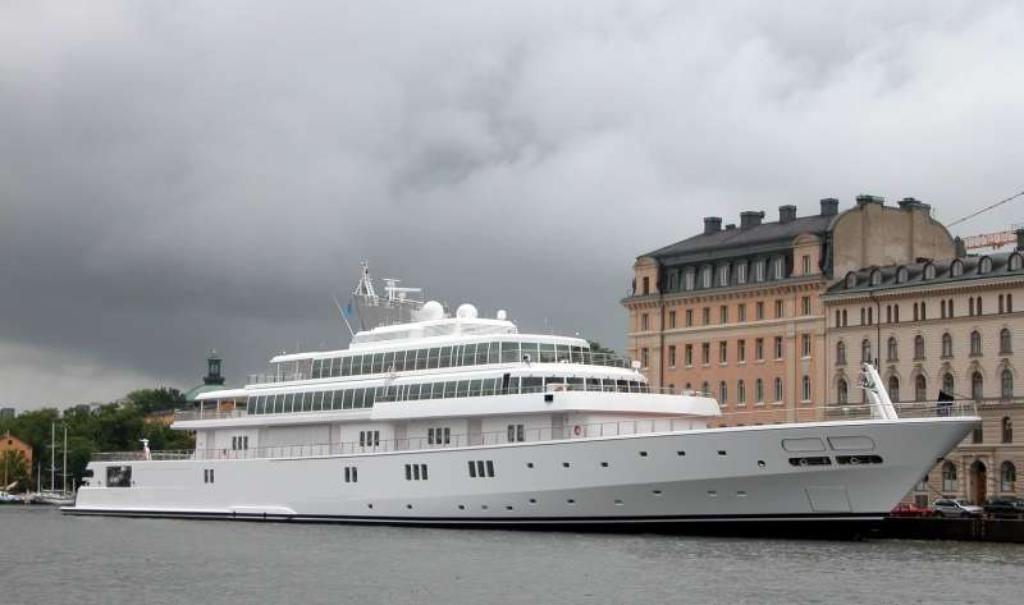PassengerShip: (68, 268, 988, 532)
